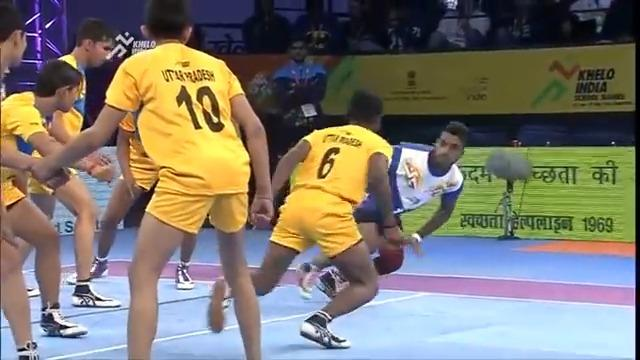Player: (27, 0, 274, 358), (206, 89, 407, 350), (0, 57, 121, 312)
Raider: (296, 119, 469, 347)
referee: (270, 35, 328, 131)
